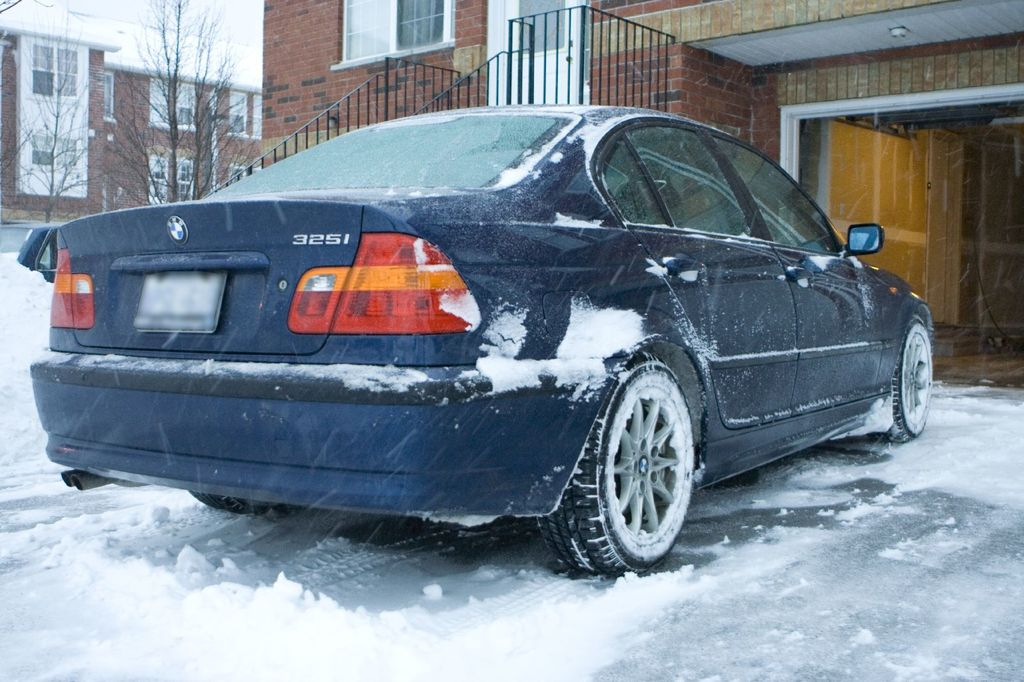Tree: (95, 0, 253, 204), (0, 1, 114, 221)
